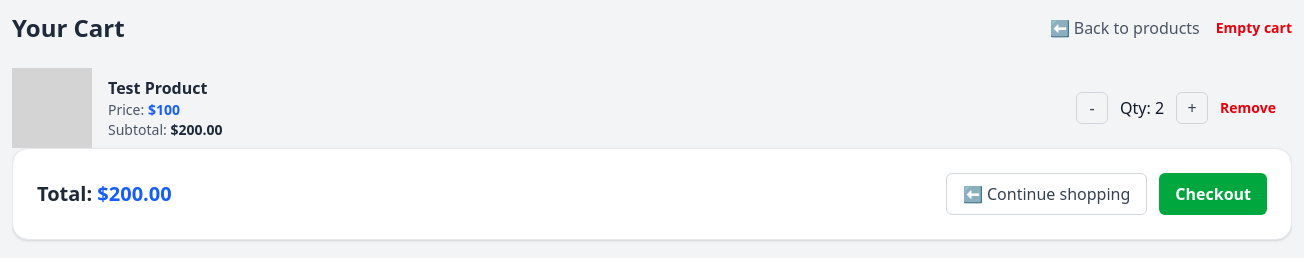
Test: decreases item quantity when clicking - button
Expected: the text "Qty: 2" is shown, x1=1120 y1=96 x2=1164 y2=120
Click the button "-" at (1092, 108), box x1=1076 y1=92 x2=1108 y2=124
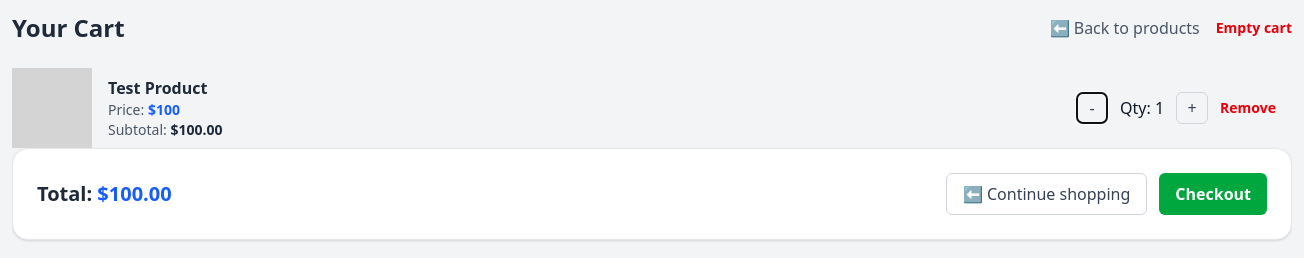
Result: the text "Qty: 1" is shown at x1=1120 y1=96 x2=1164 y2=120
